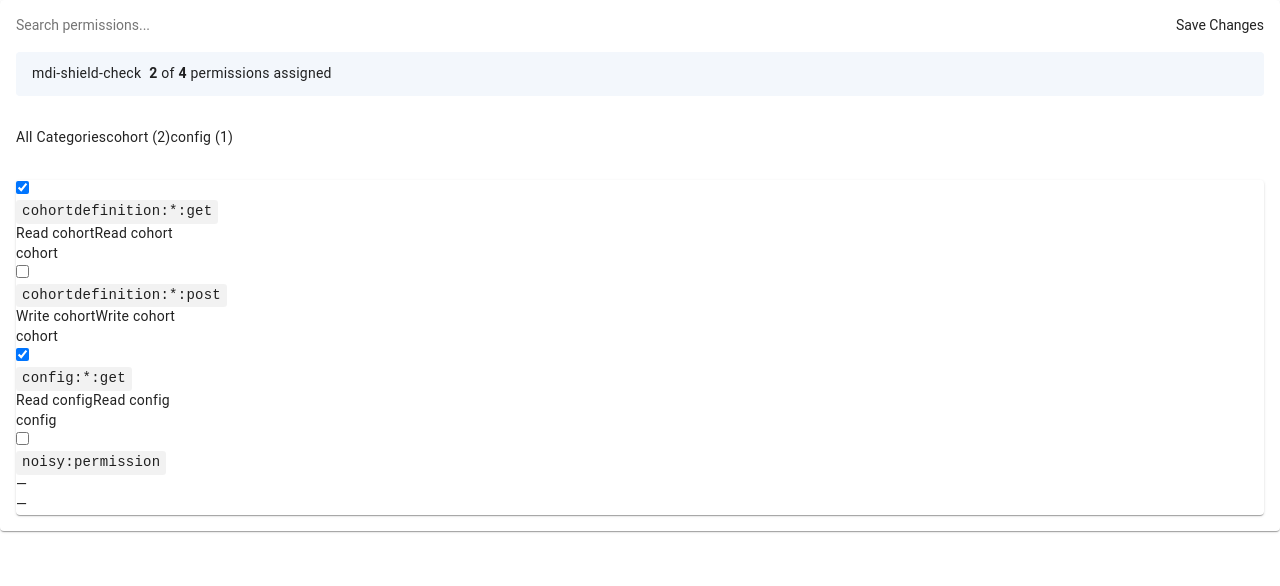
Test case: RolePermissionsTab interactions › reports an error when removePermissionFromRole returns false
Click the 1st checkbox with class "stub-checkbox" at [22, 187], box [16, 181, 29, 194]
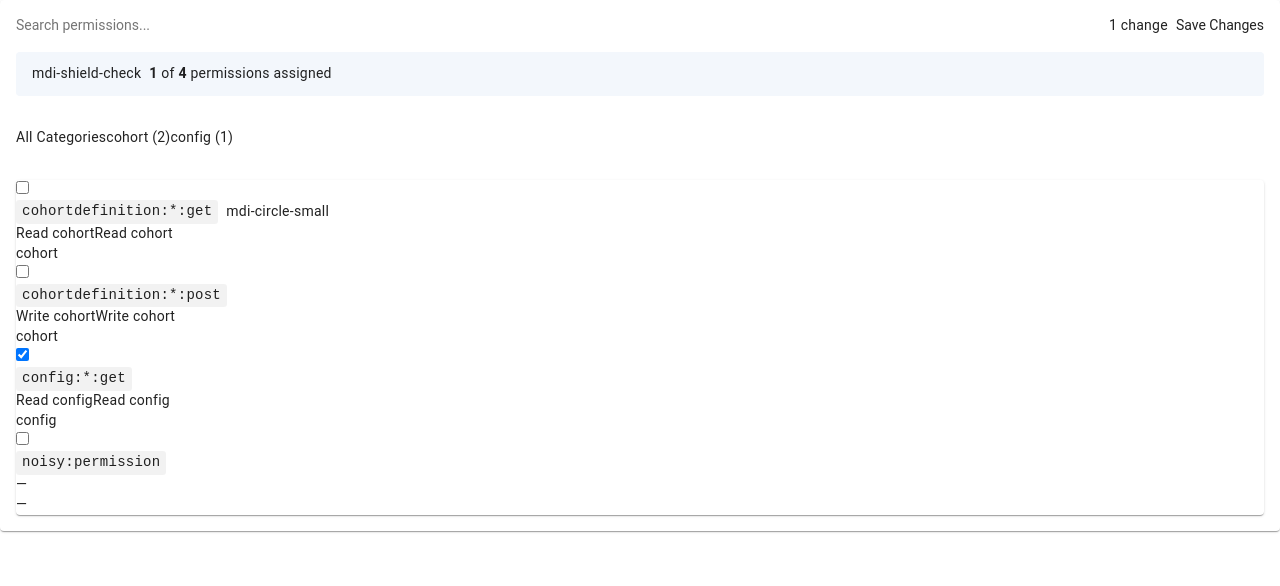
Click the button with class "stub-save-btn" at [1220, 26], box [1176, 16, 1264, 36]
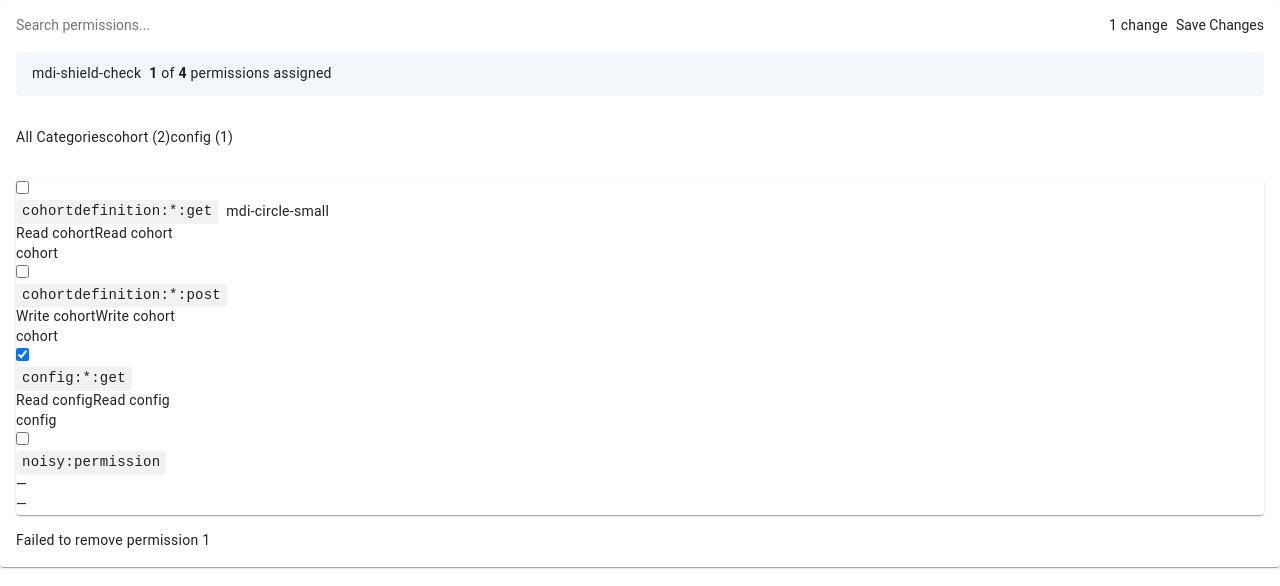
Expected: the text "Failed to remove permission 1" is shown, [16, 532, 210, 548]
